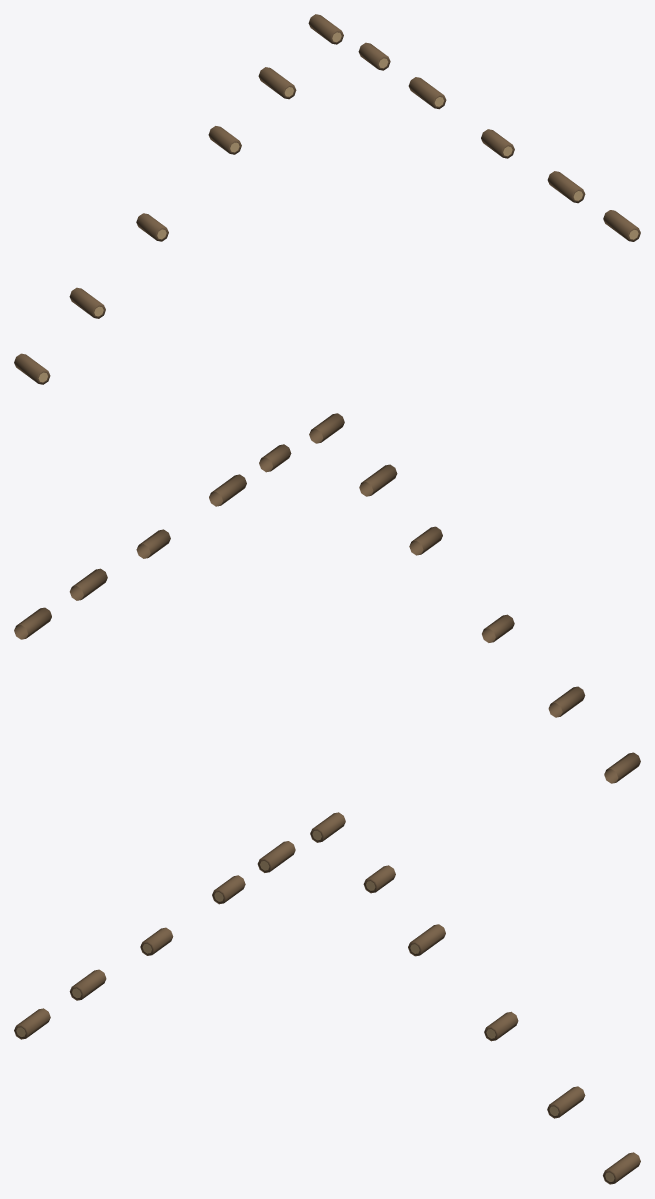
Rendered from rpgpp_ag_roof_support_01_9x4x3_end_01b.fbx.
3 renders of one model, top to bottom at view 1: azimuth 30°, elevation 25°; view 2: azimuth 150°, elevation 25°; view 3: azimuth 330°, elevation 25°, orthographic.
Visible parts, largest first — view 1: rpgpp_ag_roof_support_01_9x4x3_end_01b; view 2: rpgpp_ag_roof_support_01_9x4x3_end_01b; view 3: rpgpp_ag_roof_support_01_9x4x3_end_01b.
Boxes of the visible parts, x1,y1,x2,y2 form: rpgpp_ag_roof_support_01_9x4x3_end_01b: (14, 14, 640, 384); rpgpp_ag_roof_support_01_9x4x3_end_01b: (14, 413, 640, 783); rpgpp_ag_roof_support_01_9x4x3_end_01b: (14, 812, 640, 1184).
Size of the model in its own units: 10.86 by 4.86 by 0.7417.
